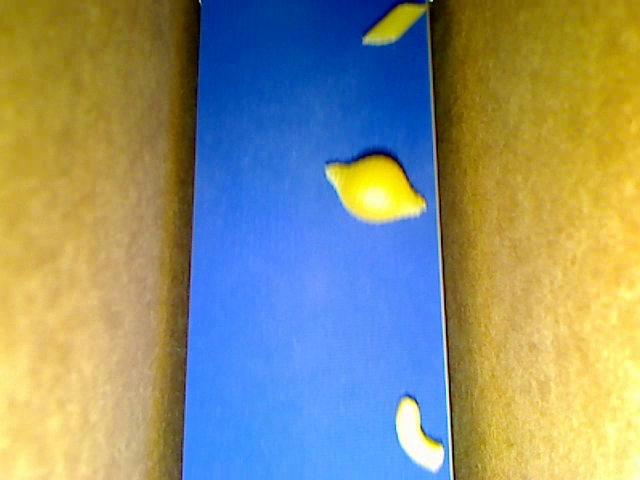elbow: (395, 396, 445, 472)
penne: (363, 3, 428, 46)
shell: (325, 154, 425, 223)
